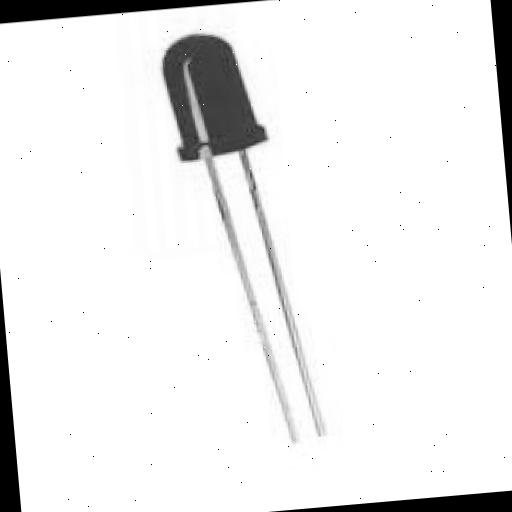LED: (99, 0, 408, 499)
